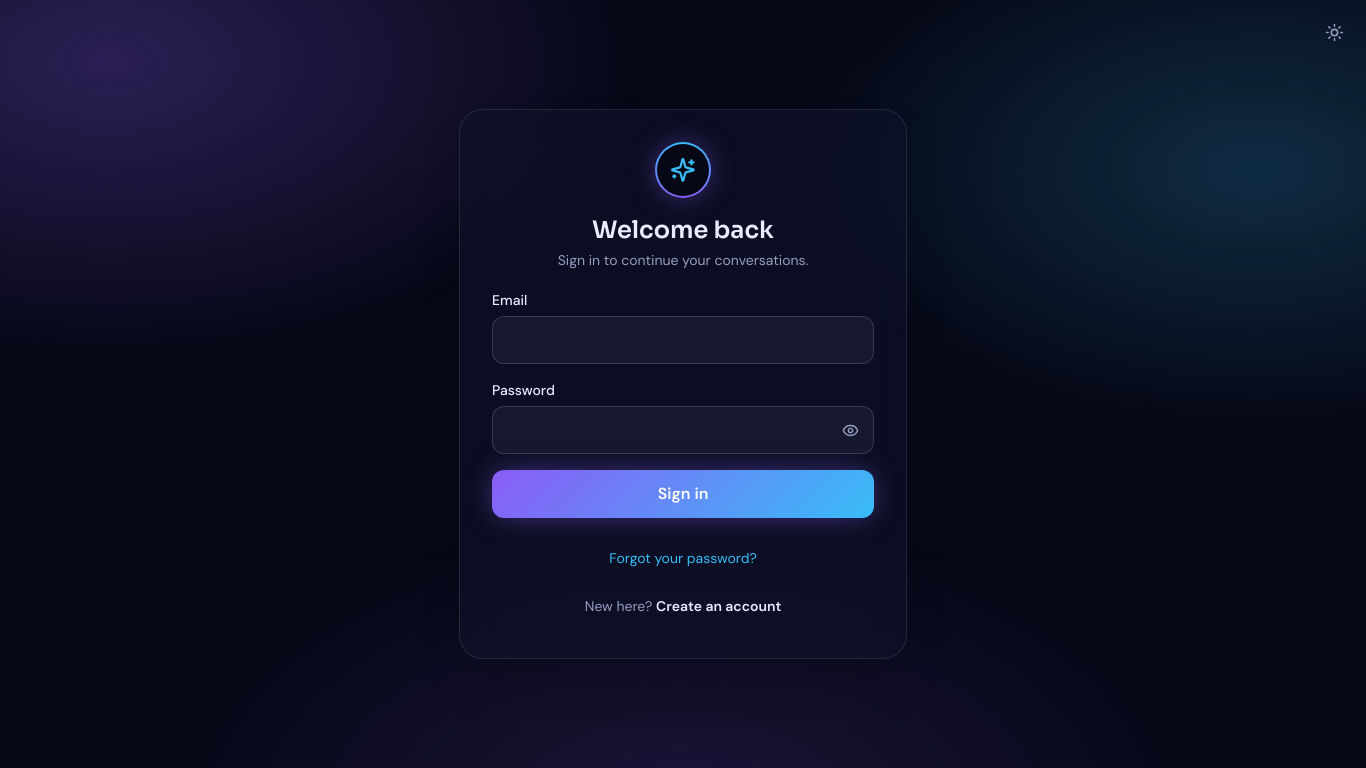
Test: AuthScreen › offers to resend the verification link
The width and height of the screenshot is (1366, 768).
In the field labelled "Email": (683, 340) [492,316,874,364], type "a@example.com"
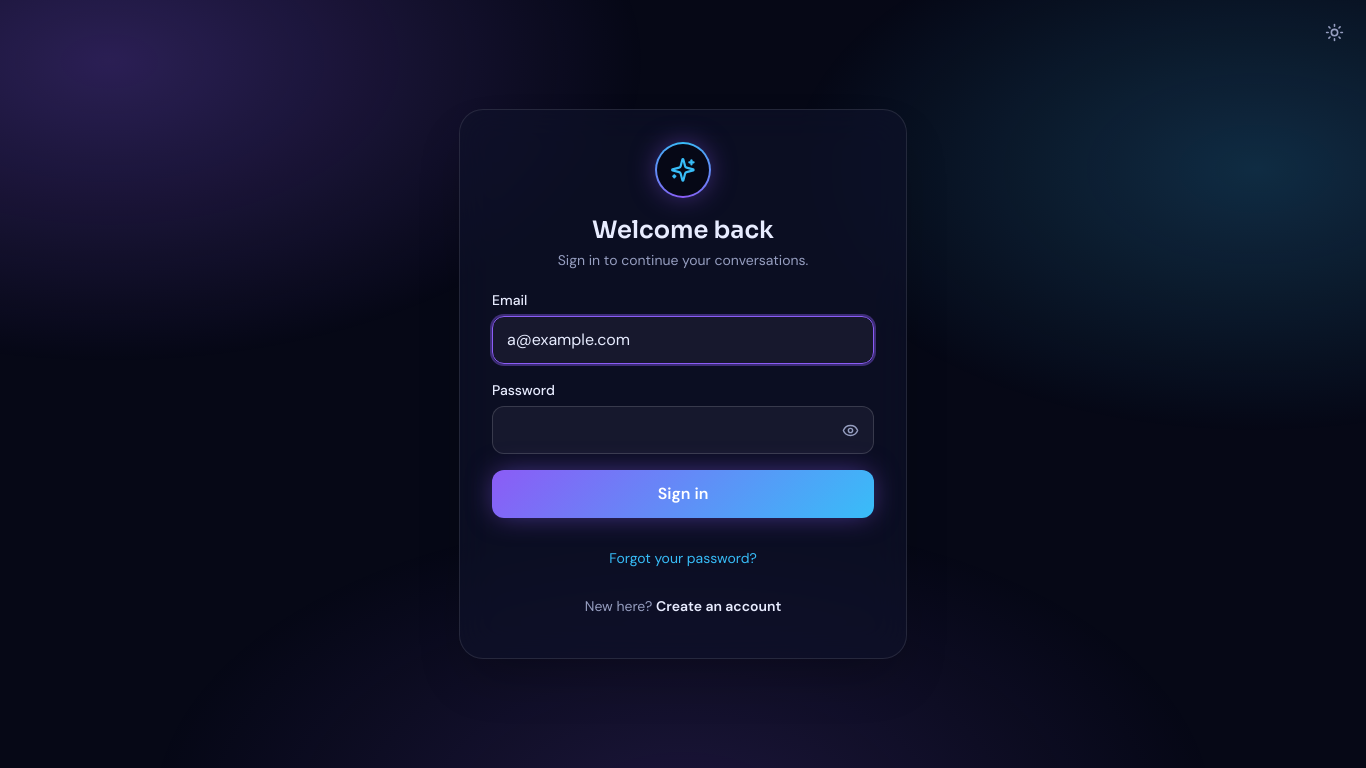
In the password field labelled "Password": (683, 430) [492,406,874,454], type "secret-pass"
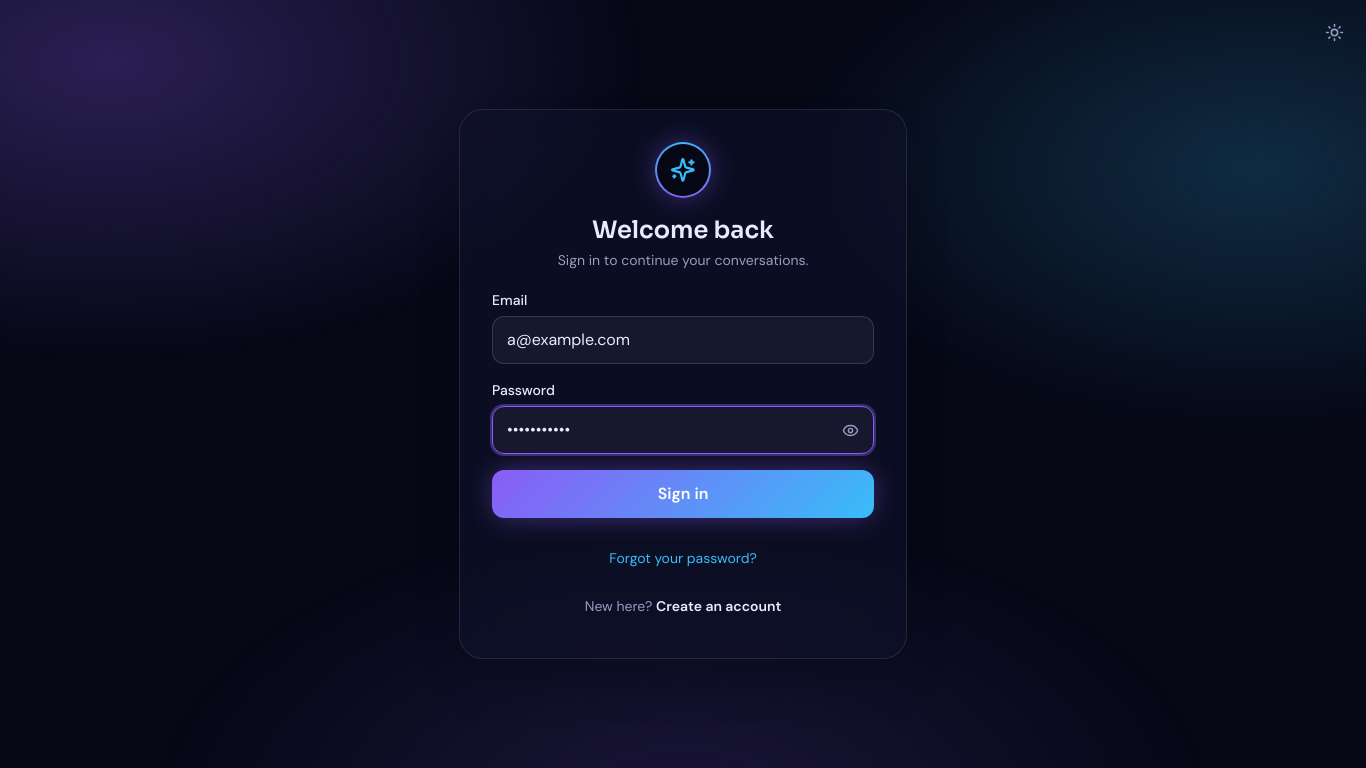
Click the button "Sign in": (683, 494) [492,470,874,518]
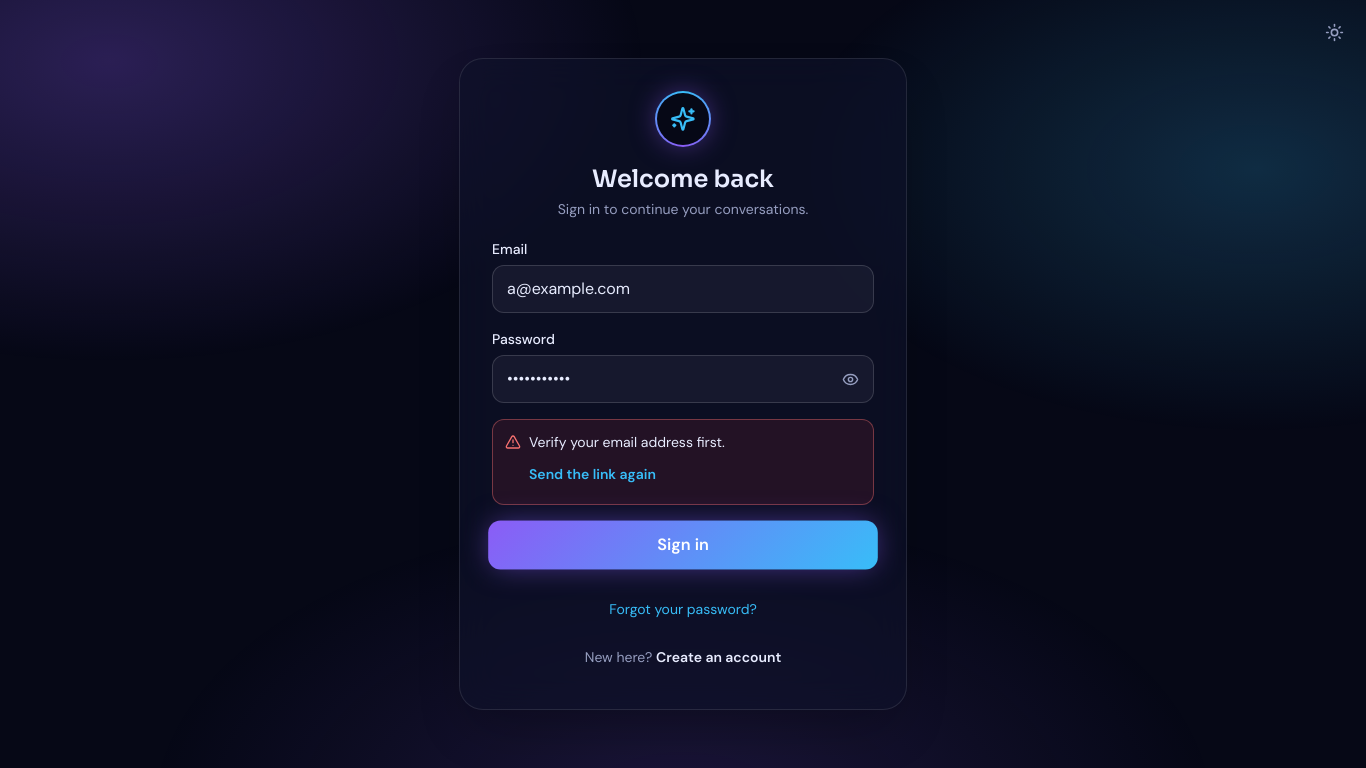
Click the button "Send the link again": (592, 474) [529,456,656,492]
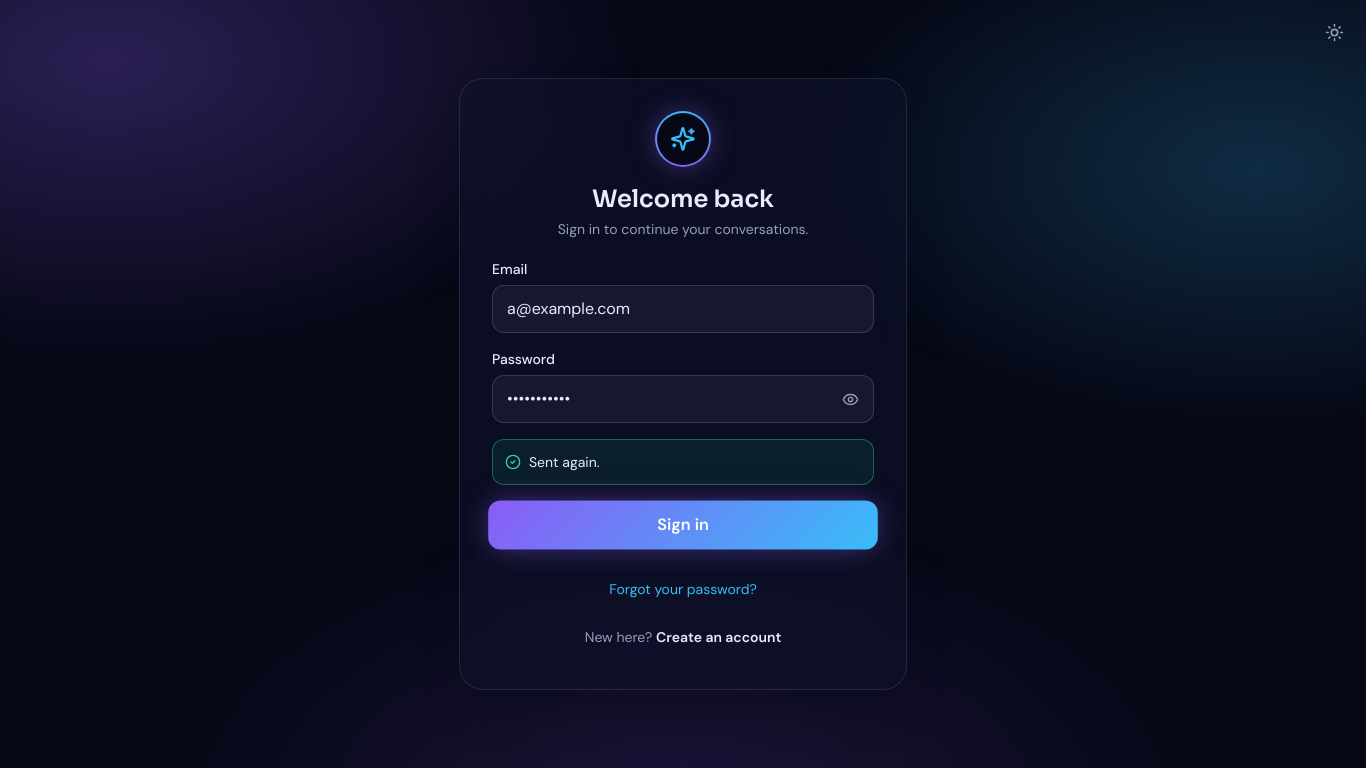
Expected: the text "Sent again." is shown, [492,439,874,485]
